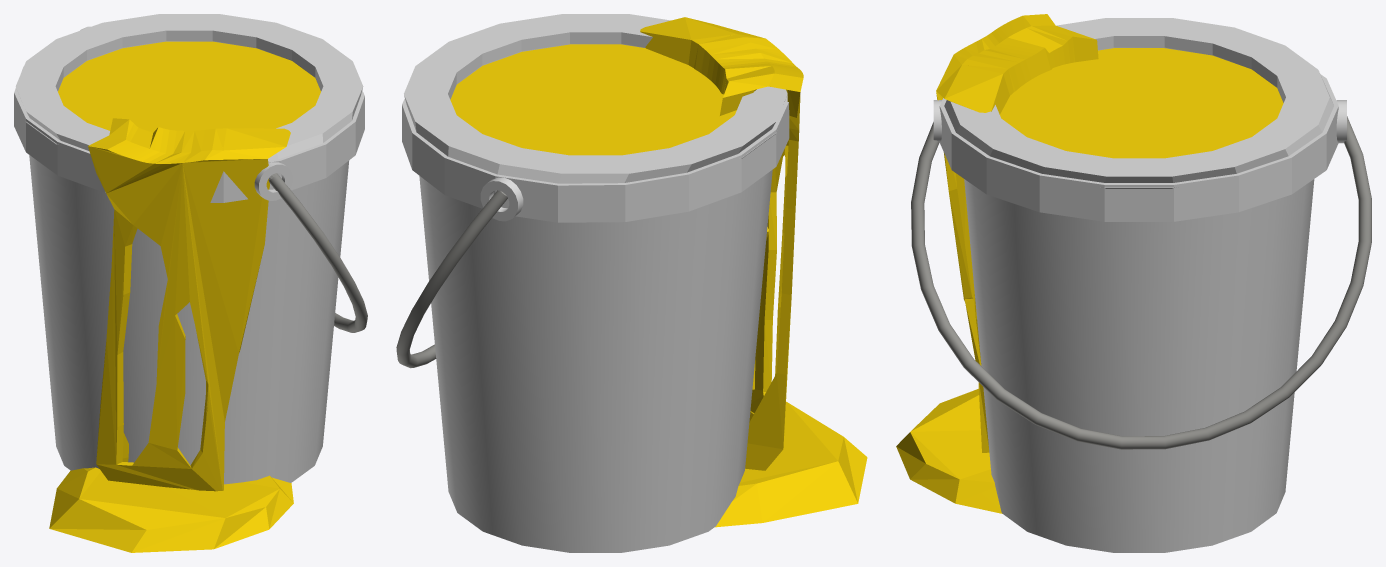
The model's file is end_item.glb.
3 views of the same model, side by side, from view 1: azimuth 30°, elevation 25°; view 2: azimuth 150°, elevation 25°; view 3: azimuth 270°, elevation 25° (orthographic). The views are drawn at different scales.
Visible parts, largest first — view 1: Tube001, Line005, Cylinder001, Line001, Arc001, Tube003; view 2: Tube001, Cylinder001, Line005, Line001, Arc001, Tube002; view 3: Tube001, Cylinder001, Arc001, Line005, Line001.
Part boxes in pixels (bbox=[...]): Tube001: bbox=[14, 14, 364, 484]; Line005: bbox=[88, 118, 290, 491]; Cylinder001: bbox=[58, 41, 320, 132]; Line001: bbox=[49, 467, 293, 552]; Arc001: bbox=[268, 173, 367, 332]; Tube003: bbox=[254, 162, 292, 200]; Tube001: bbox=[402, 14, 789, 552]; Cylinder001: bbox=[450, 44, 736, 155]; Line005: bbox=[640, 17, 803, 470]; Line001: bbox=[715, 401, 867, 527]; Arc001: bbox=[396, 190, 507, 368]; Tube002: bbox=[480, 177, 523, 221]; Tube001: bbox=[939, 18, 1338, 552]; Cylinder001: bbox=[1000, 48, 1283, 158]; Arc001: bbox=[911, 116, 1371, 449]; Line005: bbox=[936, 14, 1098, 452]; Line001: bbox=[896, 388, 1002, 513].
Size of the model in its own units: 0.2443 by 0.2576 by 0.2724.
